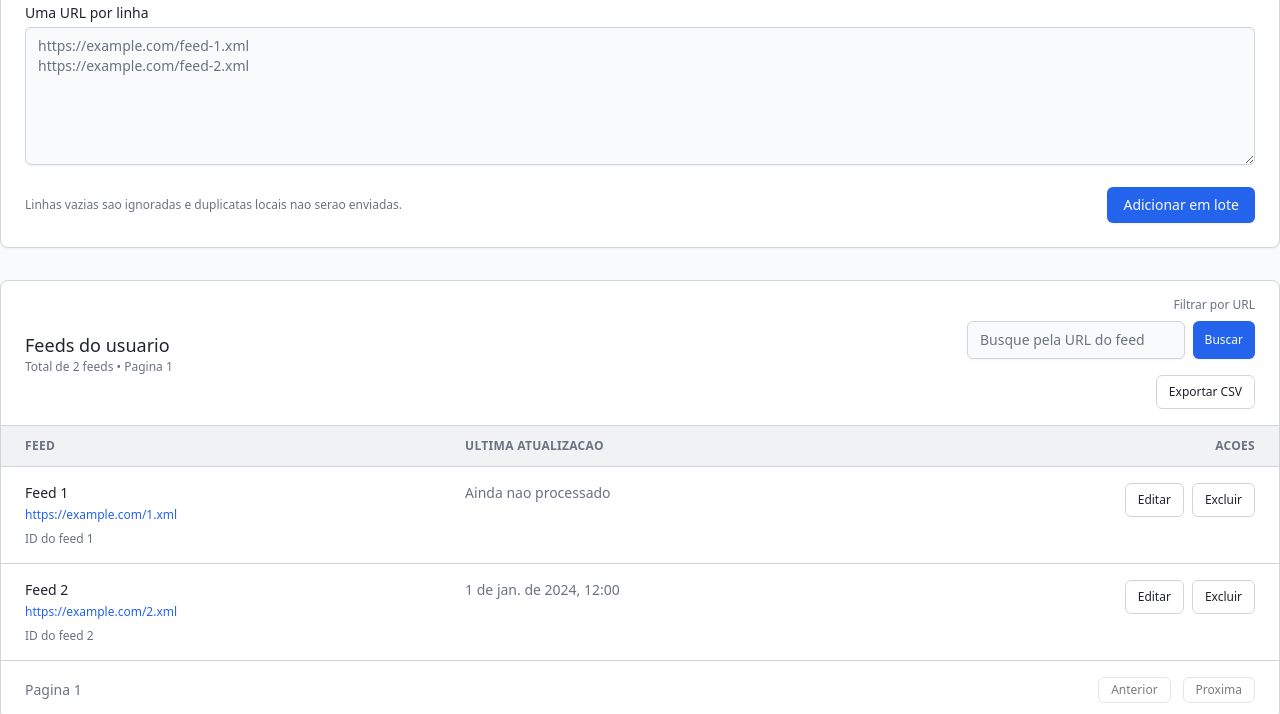
Test: FeedsPage › updates feed successfully and closes the edit form
(page scrolled)
Click the button "Editar" in the row of "https://example.com/1.xml" at (1154, 500), box [1125,483,1184,517]
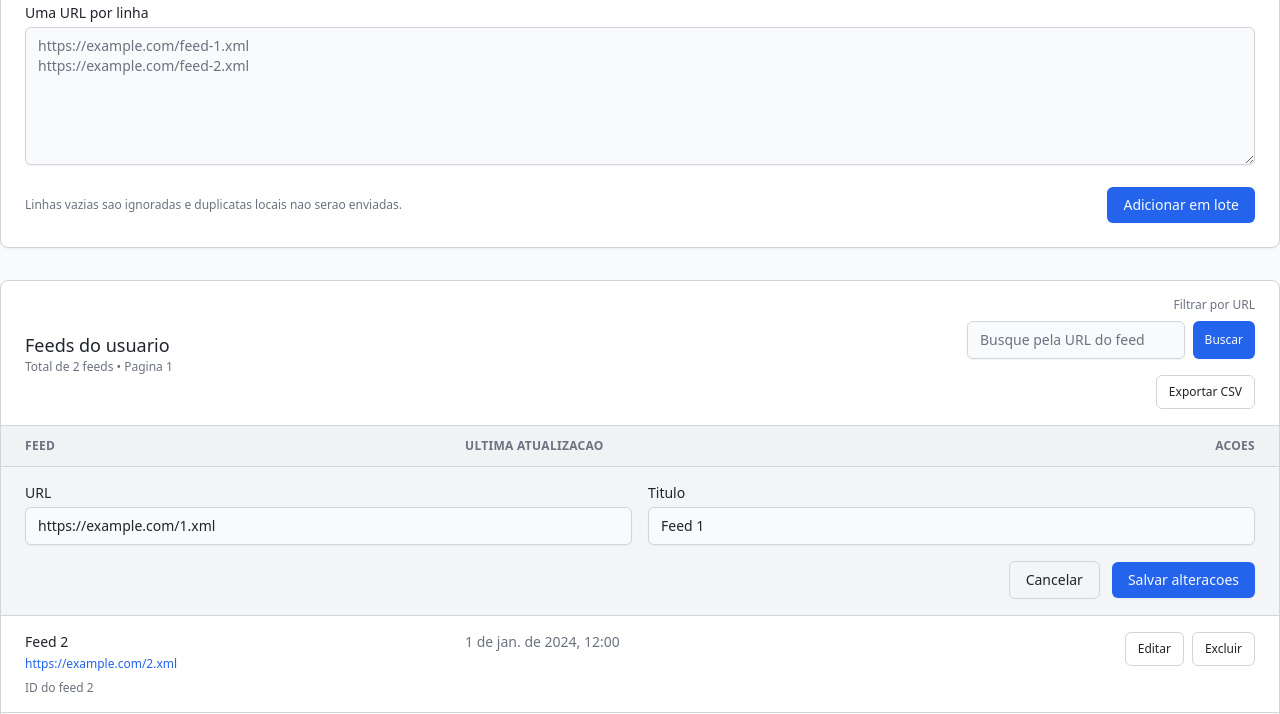
Replace the text in the field labelled "Titulo" with "Atualizado" at (952, 526), box [648,507,1255,545]
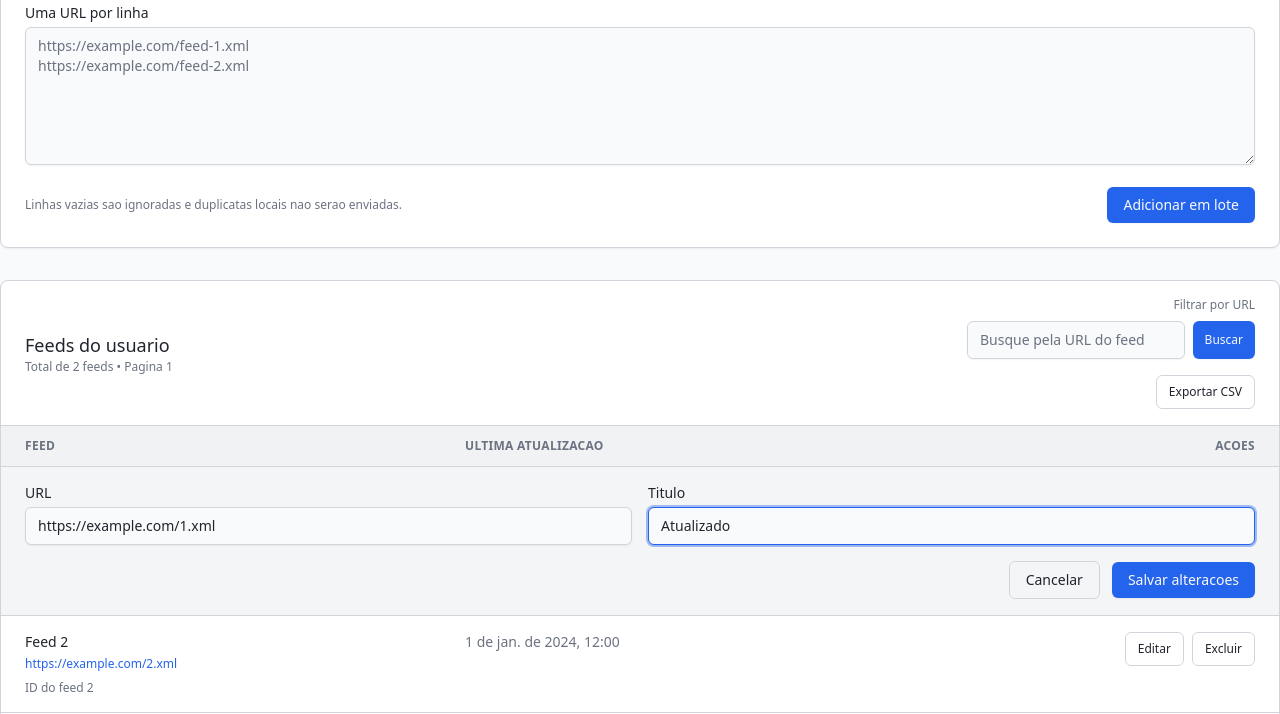
Click the button "Salvar alteracoes" at (1183, 580), box [1112,562,1255,598]
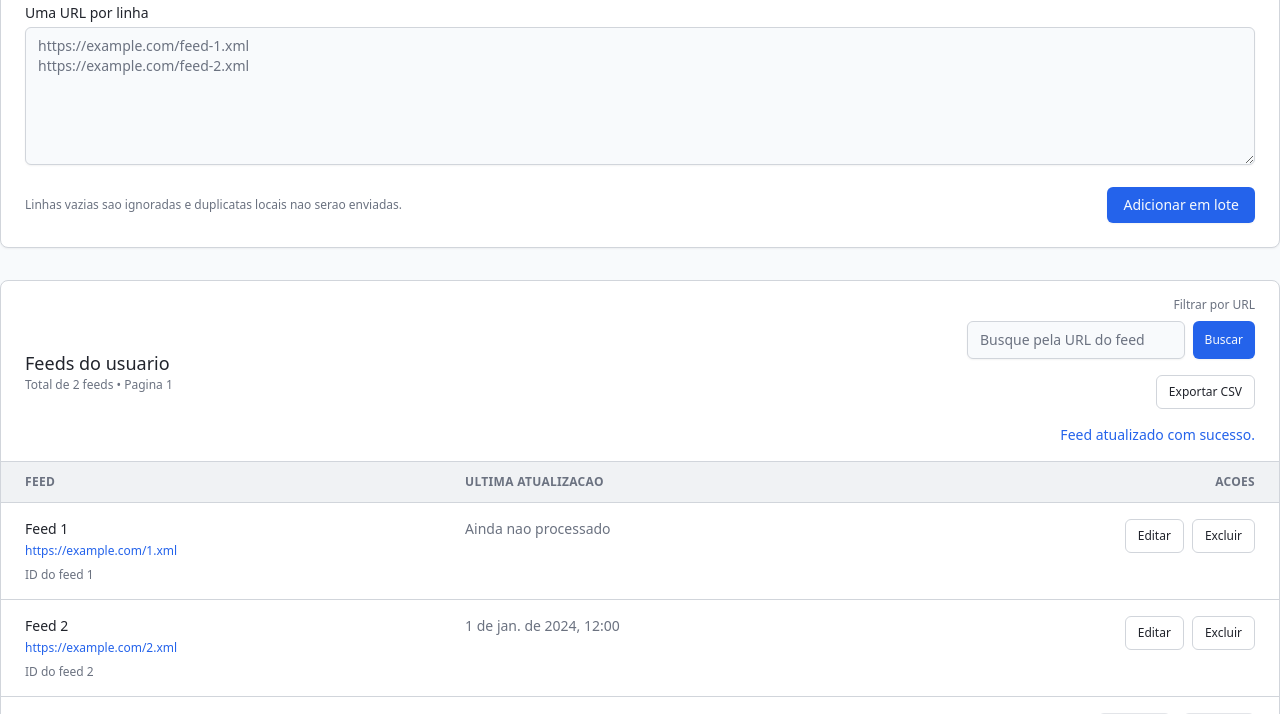
Expected: the button "Editar" in the row of "https://example.com/1.xml" is enabled, [1125,519,1184,553]
Now the text "Feed atualizado com sucesso." is shown, box [1060,425,1255,445]
